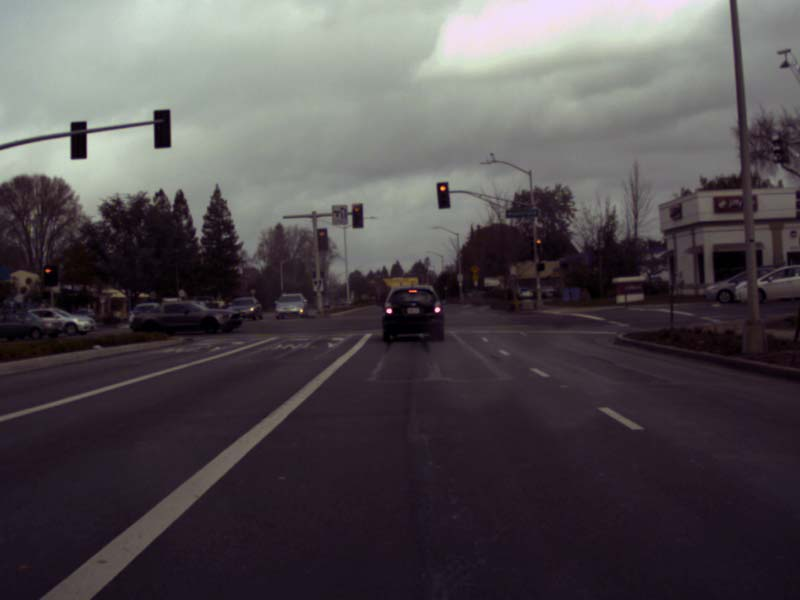Red: (436, 183, 449, 207), (351, 203, 363, 228), (317, 228, 326, 249), (44, 266, 52, 285), (535, 238, 541, 255)
